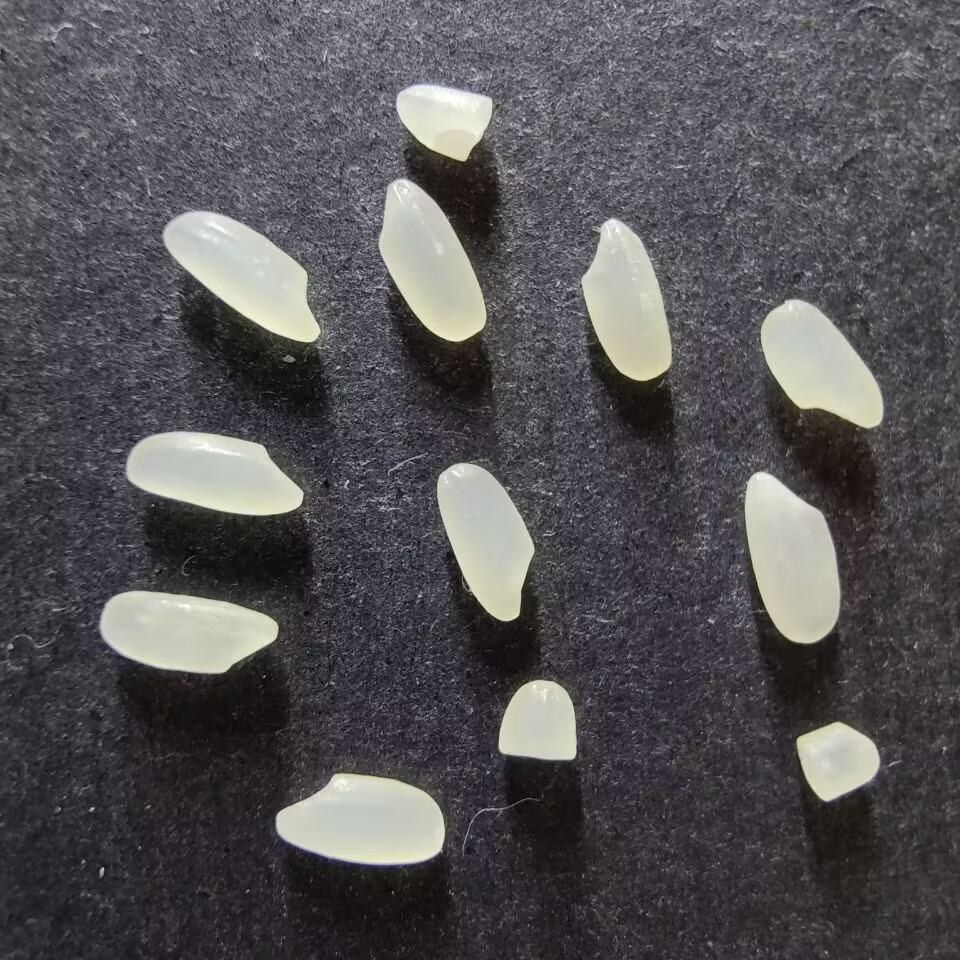broken: (395, 84, 493, 162), (795, 721, 881, 802), (497, 679, 577, 762)
rice: (162, 210, 322, 342), (377, 179, 486, 341), (743, 471, 840, 644), (759, 299, 884, 428), (435, 462, 535, 622), (275, 772, 444, 865), (125, 431, 303, 516), (580, 218, 672, 381), (99, 591, 279, 674)
